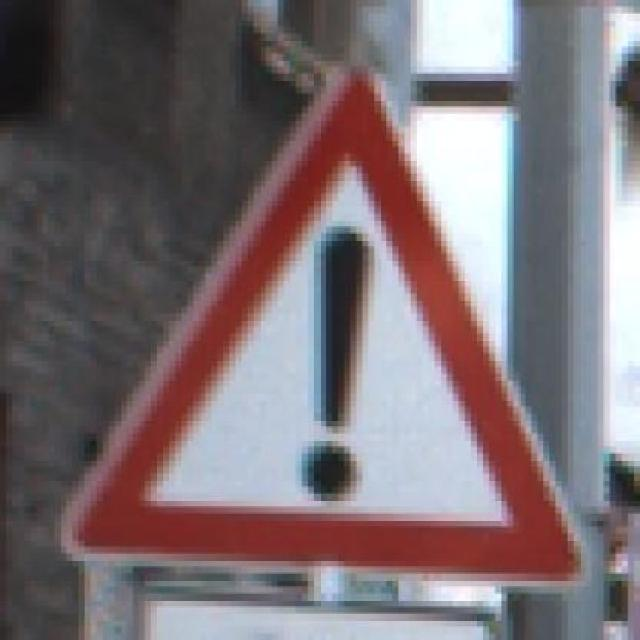Attention Please-: (66, 46, 592, 614)
